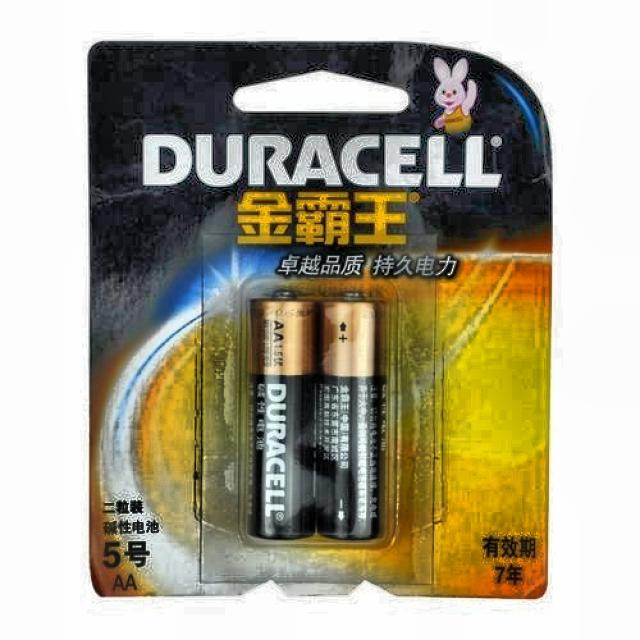Non-Valuable Waste - Batteries: (250, 300, 382, 539)
